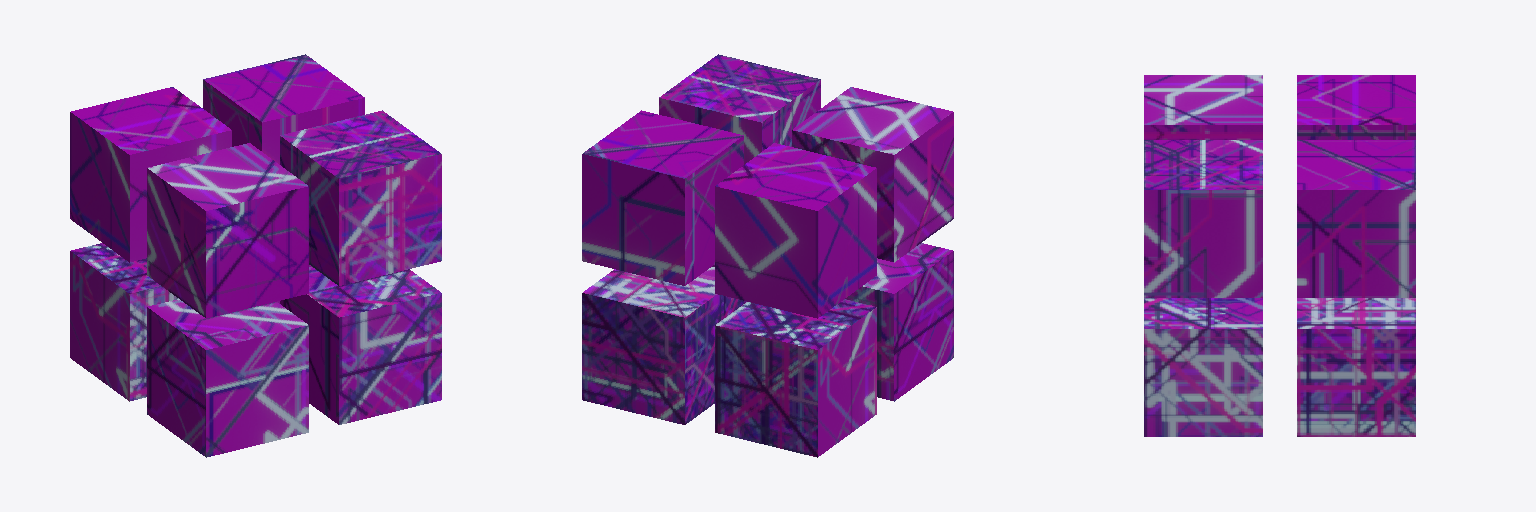
3 views of the same model, side by side, from view 1: azimuth 30°, elevation 25°; view 2: azimuth 150°, elevation 25°; view 3: azimuth 270°, elevation 25° (orthographic).
Parts seen in each view (by area): view 1: 立方体; view 2: 立方体; view 3: 立方体.
Part boxes in pixels (x1,y1,x2,y2): 立方体: (70,54,441,457); 立方体: (582,54,953,457); 立方体: (1144,75,1415,436).
Size of the model in its own units: 4.38 by 4.38 by 4.38.
Materials: 1 (1 with a texture image).